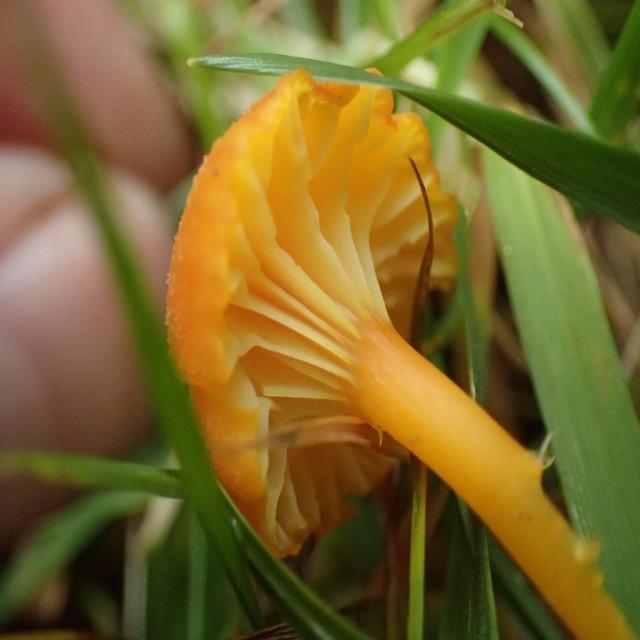Cantharellus cibarius: (163, 68, 640, 638)
